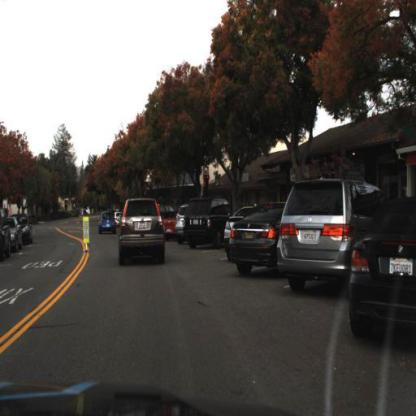car: (277, 171, 367, 297), (350, 196, 416, 342), (227, 194, 285, 279), (116, 194, 169, 268), (181, 195, 226, 255), (9, 215, 26, 257), (96, 210, 119, 238), (1, 212, 13, 265), (20, 213, 34, 247), (164, 212, 178, 242)
